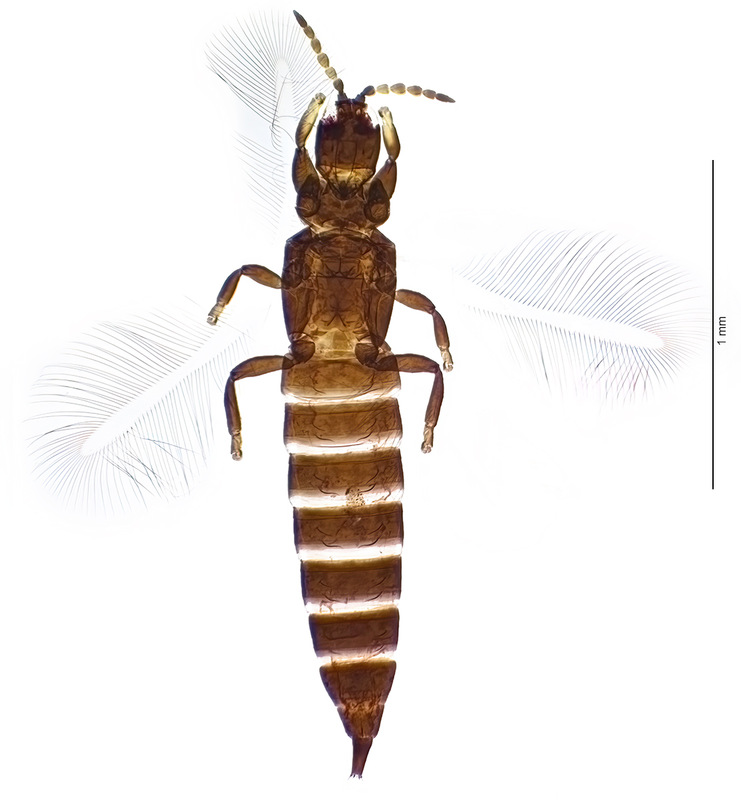Phlaeothripidae: (25, 13, 708, 793)
